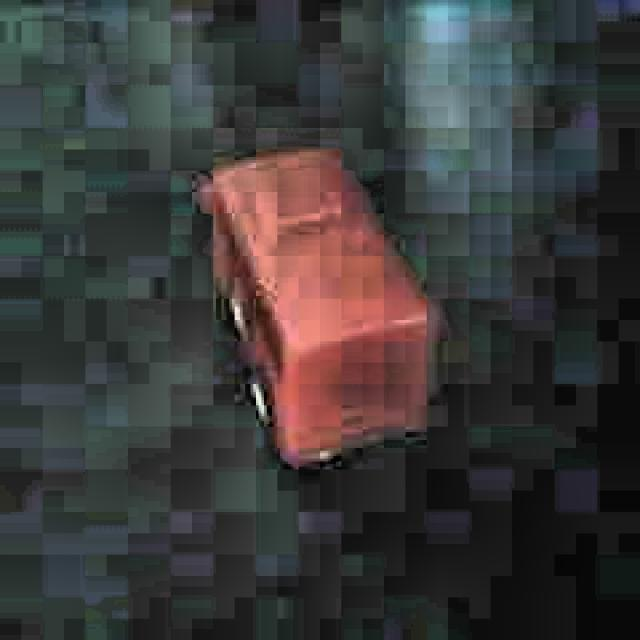bus: (196, 144, 432, 458)
